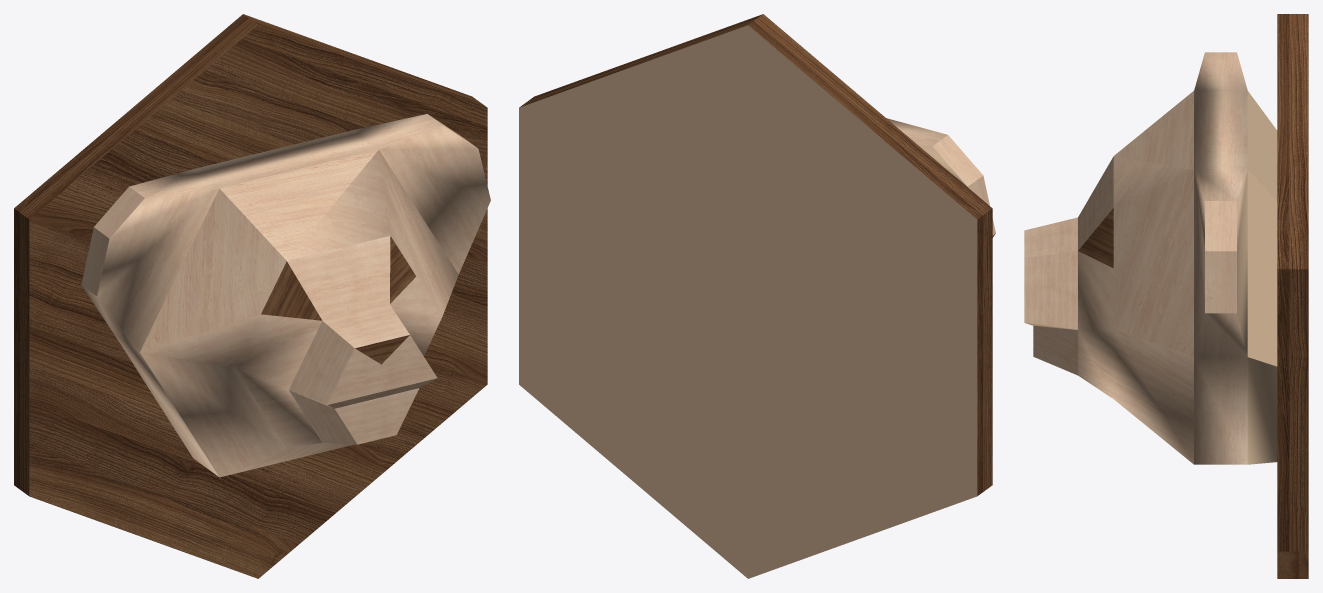
The model's file is bear-texture.glb.
The picture shows the model from 3 angles, left to right: view 1: azimuth 30°, elevation 25°; view 2: azimuth 150°, elevation 25°; view 3: azimuth 270°, elevation 25°; orthographic projection. The views are drawn at different scales.
Visible parts, largest first — view 1: bear(Clone); view 2: bear(Clone); view 3: bear(Clone).
Boxes of the visible parts, x1,y1,x2,y2 form: bear(Clone): (14, 14, 490, 578); bear(Clone): (519, 14, 995, 578); bear(Clone): (1024, 14, 1308, 578).
Size of the model in its own units: 0.3897 by 0.45 by 0.2052.
Materials: 4 (2 with a texture image).
